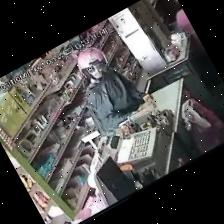person: (78, 48, 144, 135)
